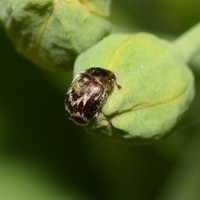insect: (65, 67, 121, 124)
